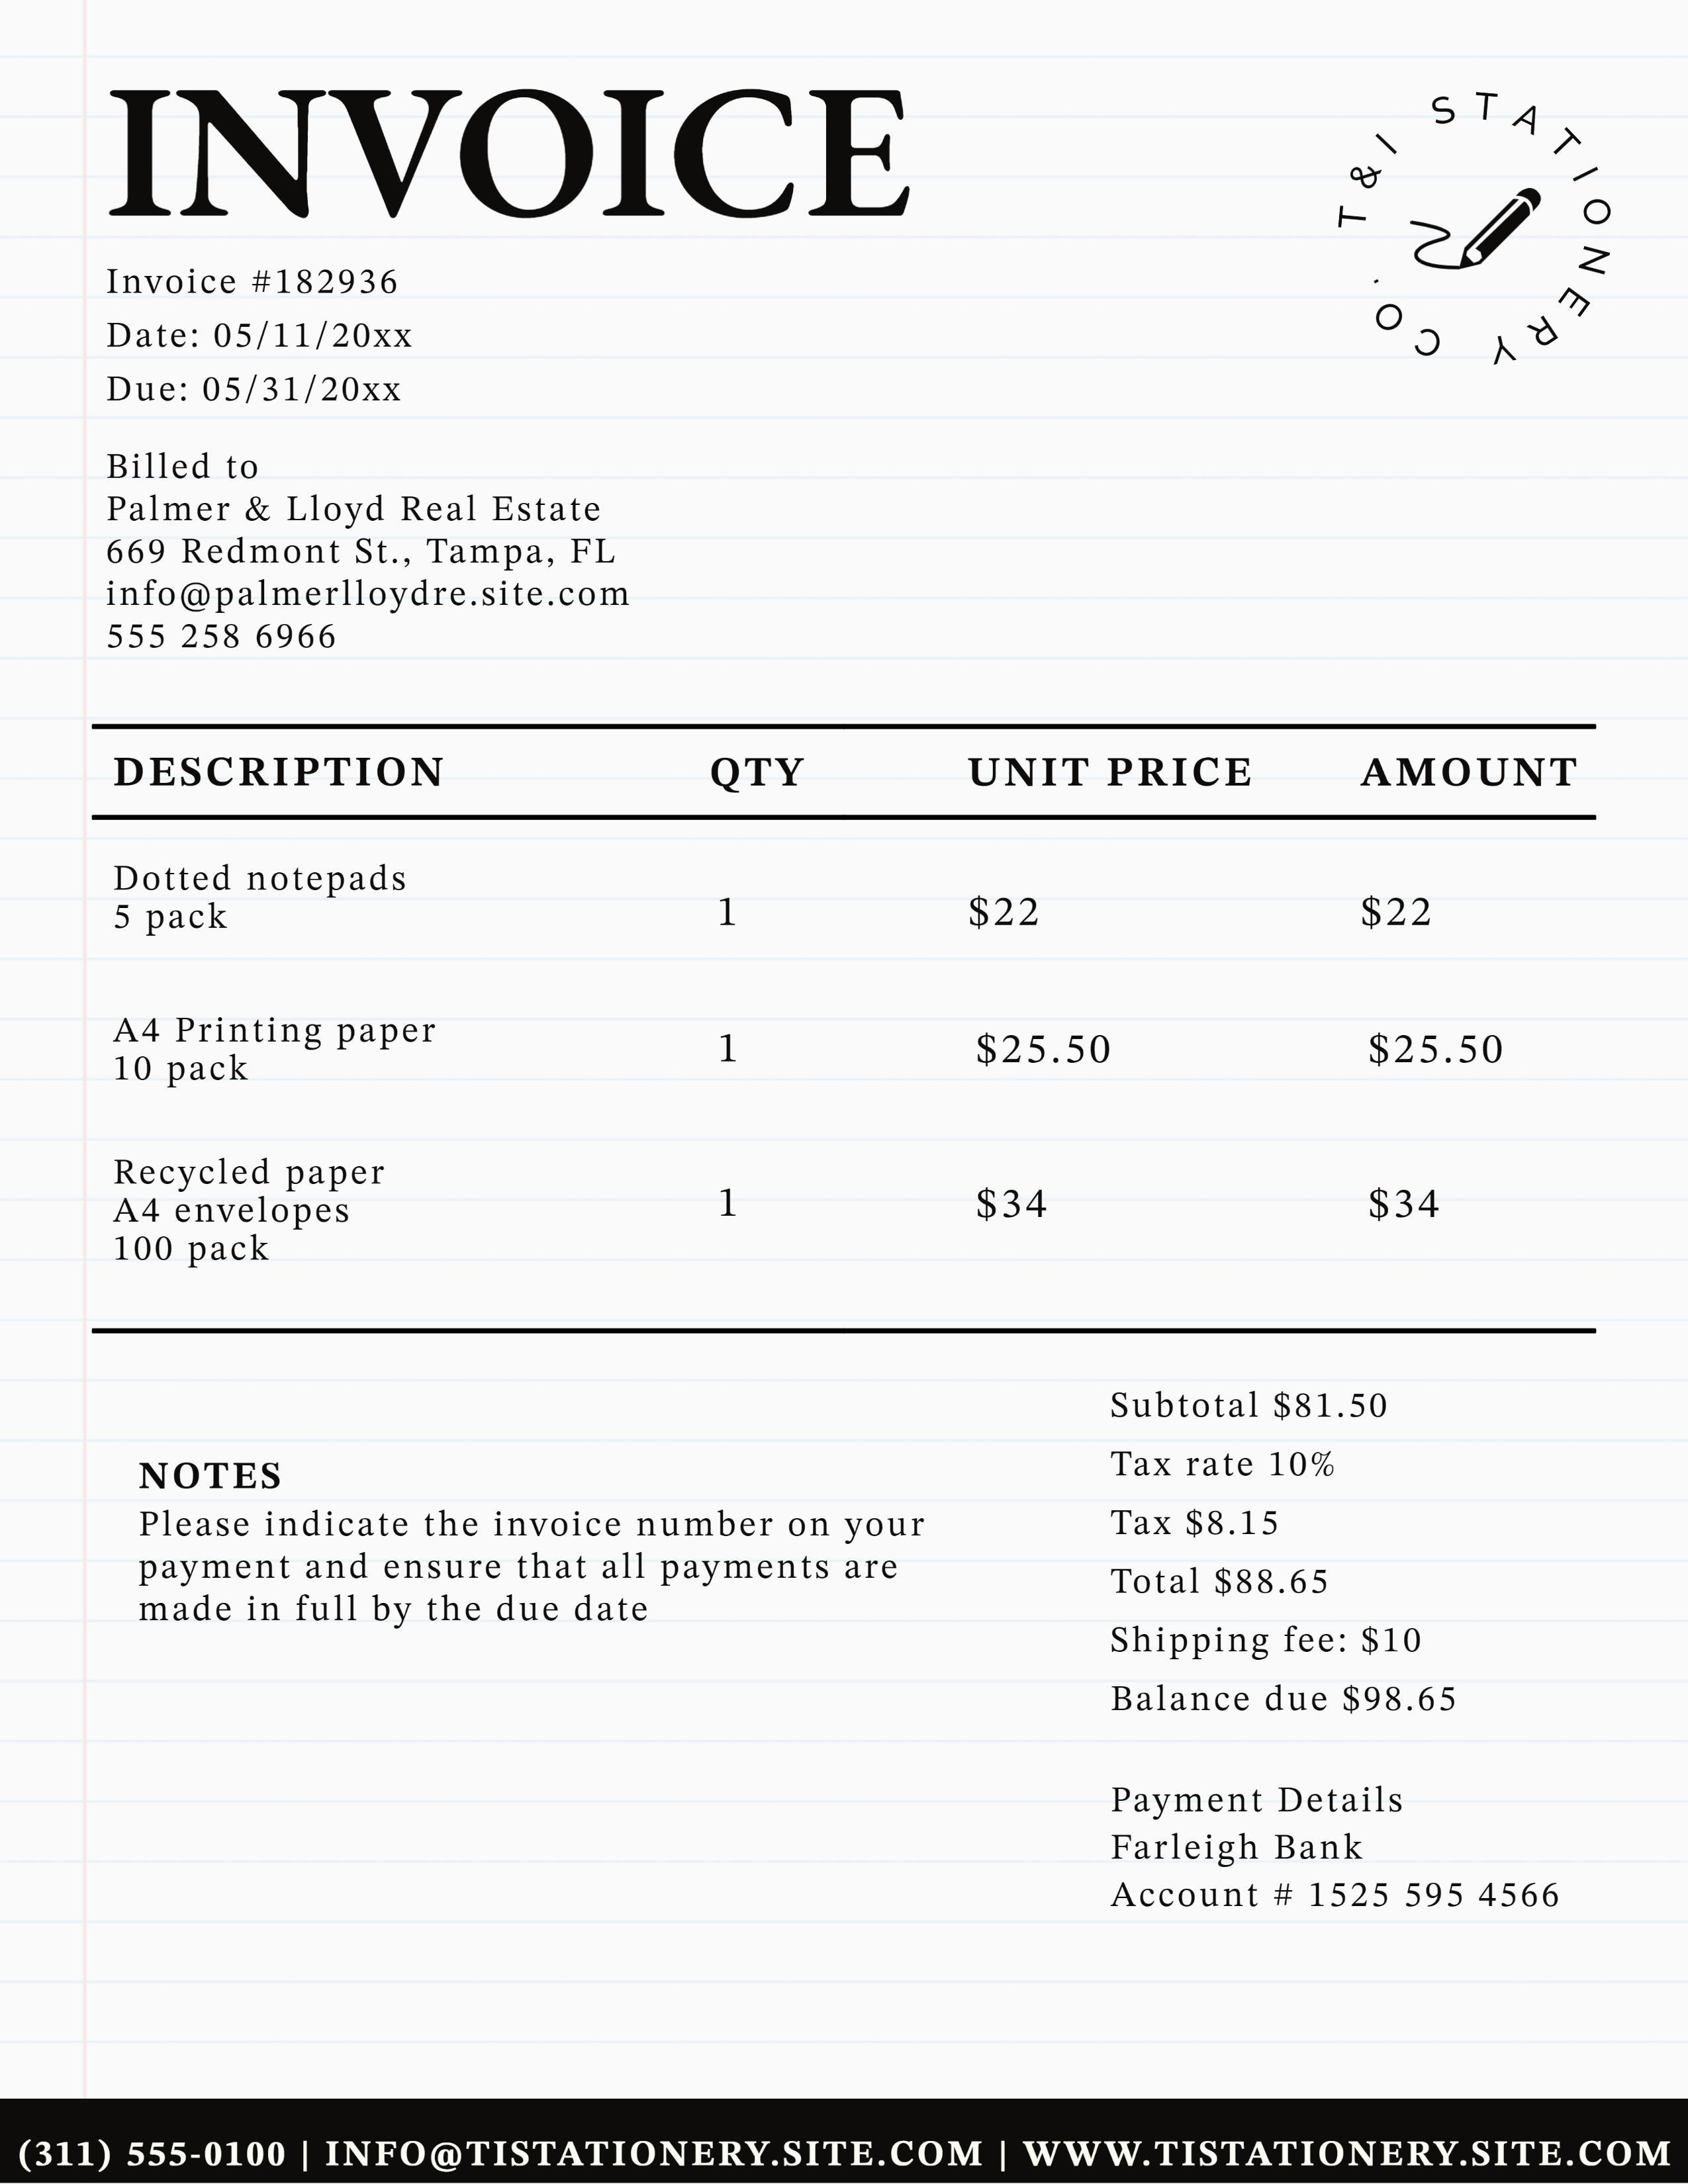ROI: (87, 729, 1601, 1324), (1101, 1369, 1497, 1718), (1300, 48, 1654, 417), (101, 443, 644, 672), (1098, 1776, 1575, 1929), (89, 253, 424, 425)
